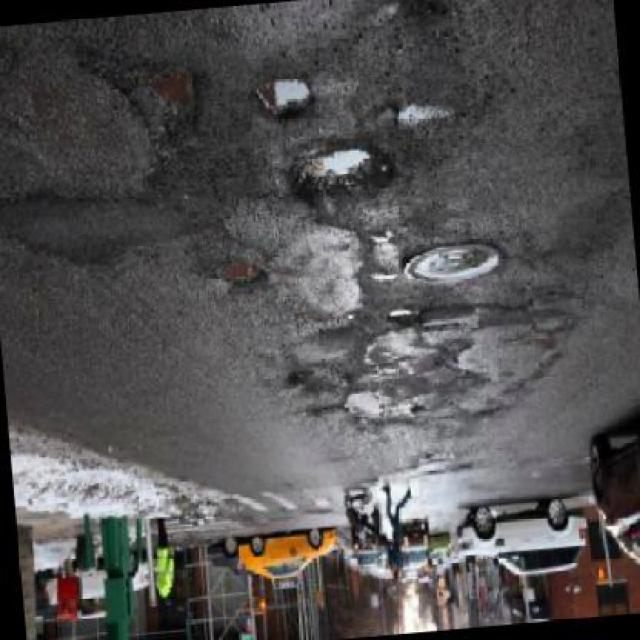pothole: (287, 139, 391, 206), (142, 60, 209, 135), (252, 72, 318, 132), (203, 256, 271, 298), (386, 308, 420, 329)
